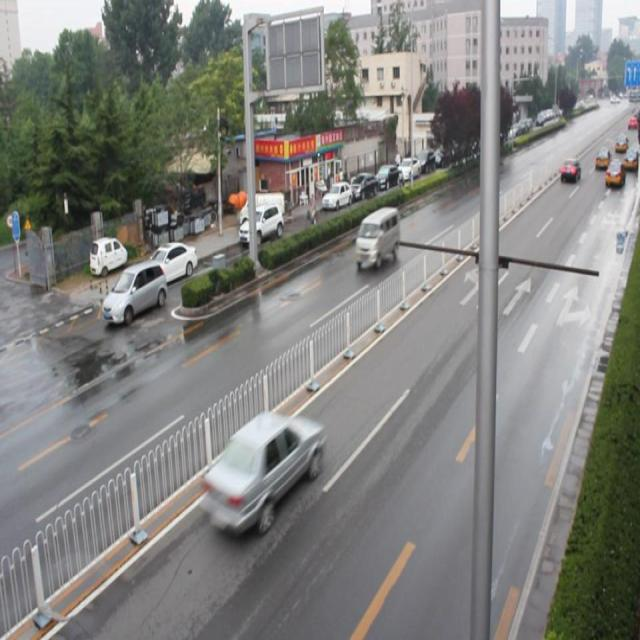car: (201, 412, 323, 536)
truck: (354, 205, 400, 268)
